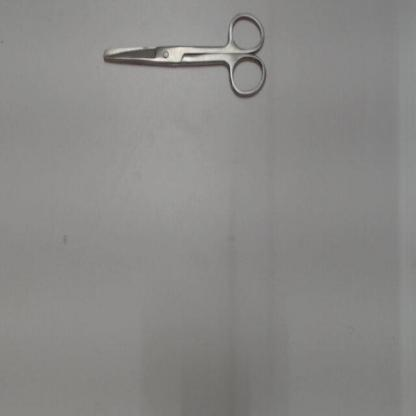Dressing Scissors: (93, 8, 276, 110)
